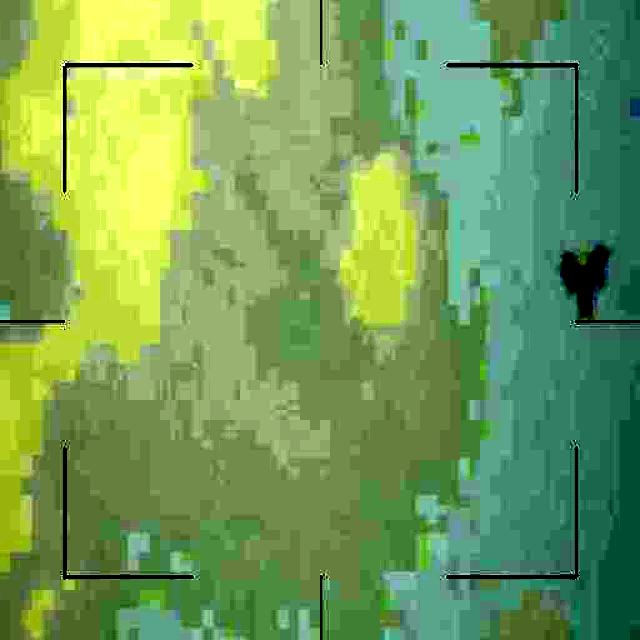bird: (556, 242, 612, 318)
